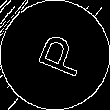P_W: (25, 28, 85, 82)
